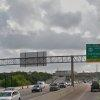Car: (30, 81, 73, 97)
